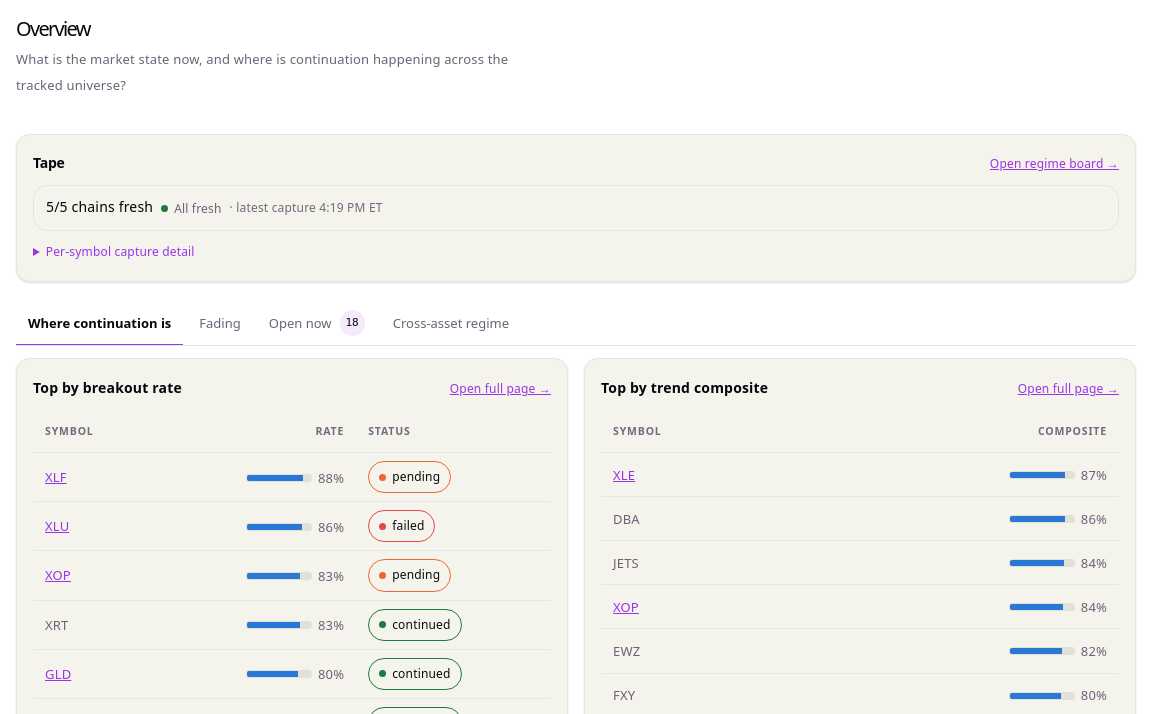
Scenario: Overview page › opens on the continuation tab and switches panels by tab, keeping the choice in the URL (T122)
Check: the element "Open breakouts" is not shown
Click the tab "Open now 18": (317, 324) top-left (257, 302), bottom-right (377, 346)
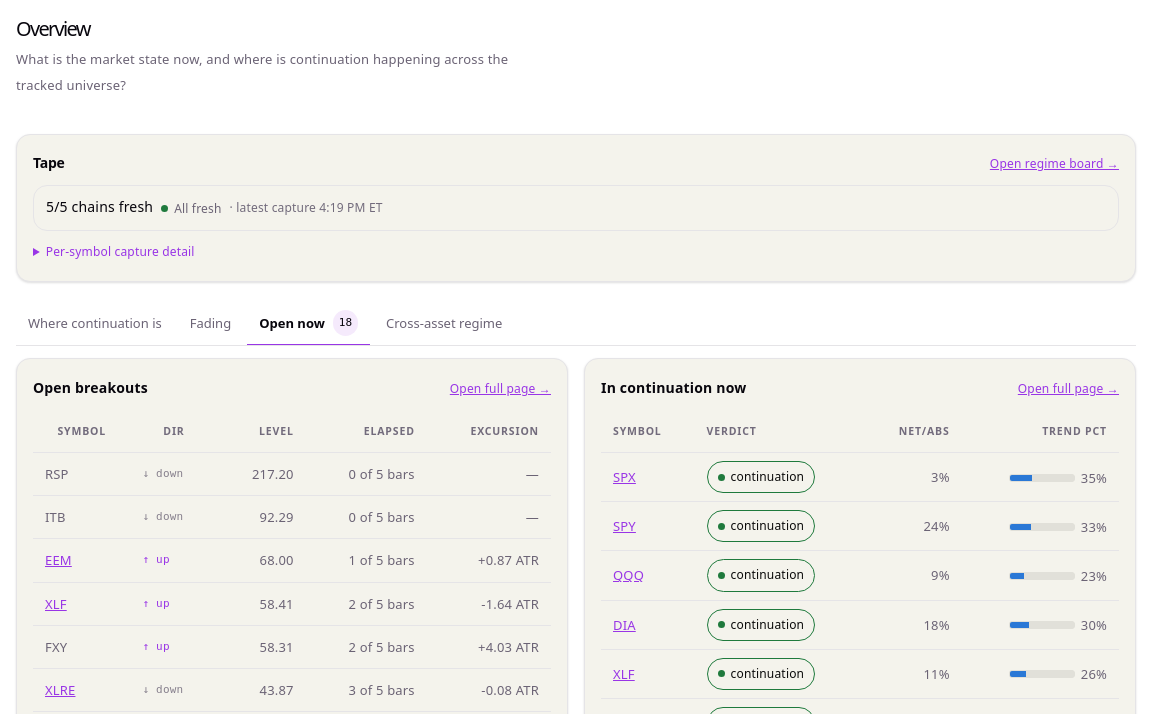
Check: the heading "Top by breakout rate" is gone
// Arrow keys move between tabs (WAI-ARIA tabs pattern).
Press ArrowRight in the tab "Open now 18", box top-left (247, 302), bottom-right (370, 346)
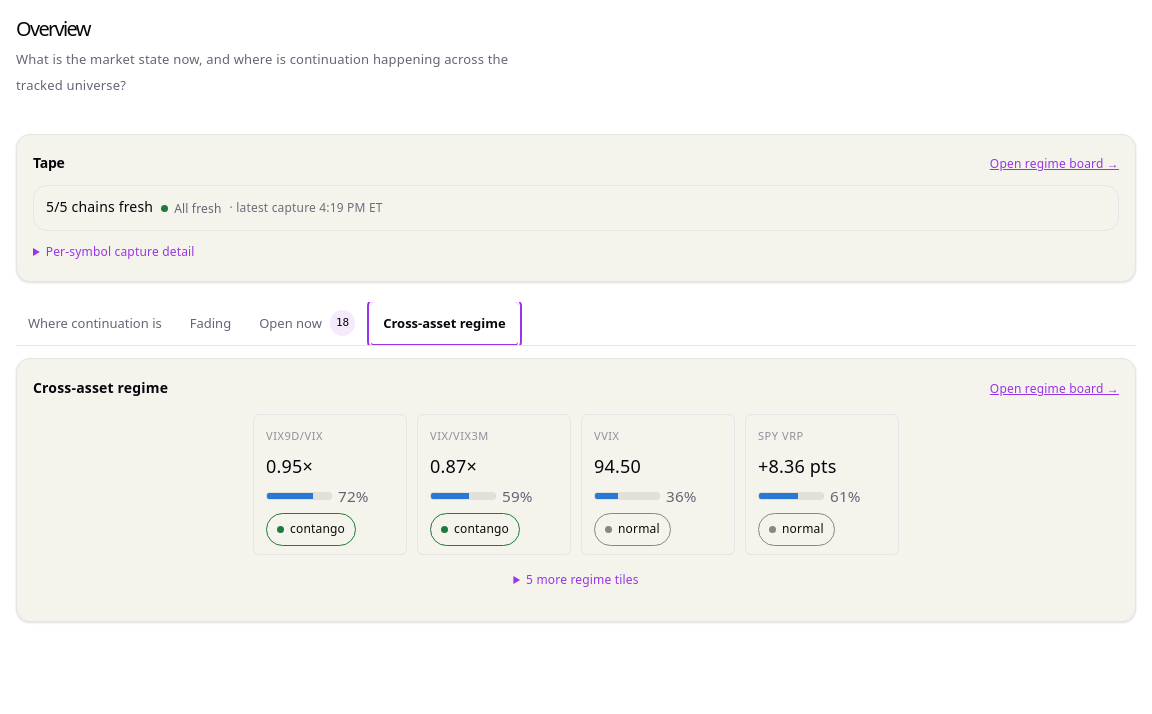
Check: the element "Cross-asset regime" is shown, box top-left (16, 358), bottom-right (1136, 622)
